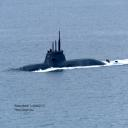submarine: (16, 29, 128, 76)
